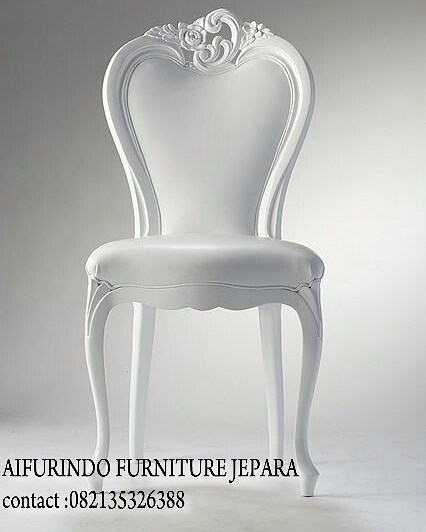Carving Chair: (66, 26, 345, 513)
